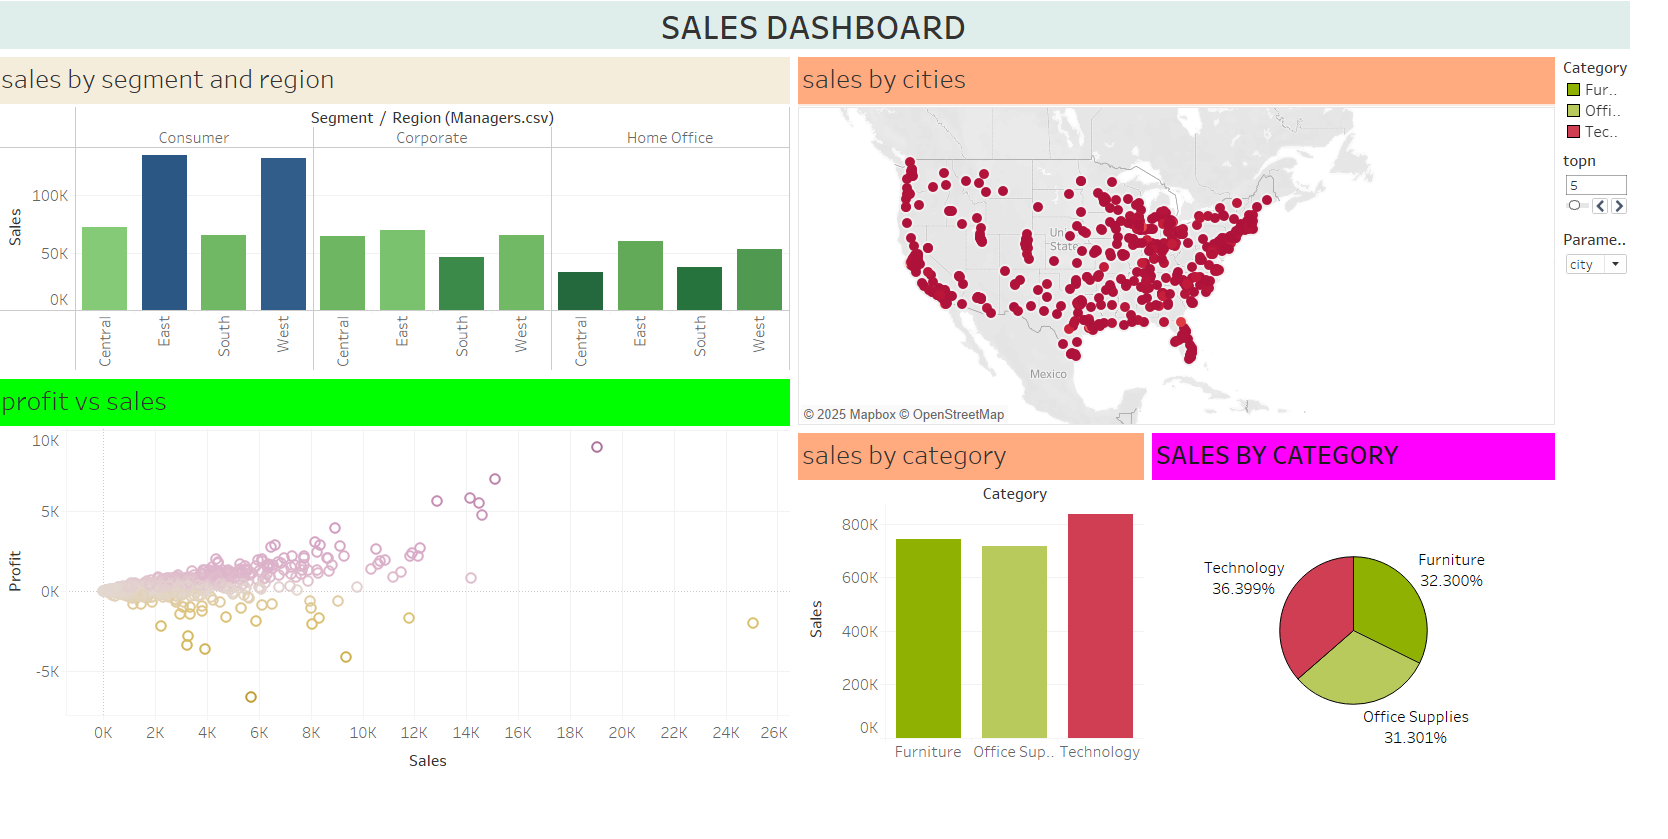

The page's visual inventory and layout, read from the dashboard file:
{"tool":"tableau","page":{"name":"Dashboard 1","canvas":[1657,801],"ordinal":0},"visuals":[{"type":"title","box":[8,8,1641,56]},{"type":"worksheet","title":"Sheet 1","mark":"Automatic","rows":["Sales"],"cols":["Segment","Region (Managers.csv)"],"box":[8,64,801,322.2]},{"type":"worksheet","title":"Sheet 3","mark":"Automatic","box":[809,64,765,376.1]},{"type":"legend","title":"Sheet 2","param":"[federated.0zs3n2703e50z90zrpjiu0lfyugy].[none:Category:nk]","box":[1574,64,75,93]},{"type":"parameter","param":"[Parameters].[Parameter 1]","box":[1574,157,75,79]},{"type":"parameter","param":"[Parameters].[Parameter 2]","box":[1574,236,75,56]},{"type":"worksheet","title":"Sheet 4","mark":"Automatic","rows":["Profit"],"cols":["Sales"],"box":[8,386.2,801,406.8]},{"type":"worksheet","title":"Sheet 5","mark":"Automatic","rows":["Sales"],"cols":["Category"],"box":[809,440.1,354,352.9]},{"type":"worksheet","title":"Sheet 2","mark":"Pie","box":[1163,440.1,411,352.9]}]}

Visuals, with their boxes on the page's 1657x801 design canvas (x1, y1, x2, y2). These are canvas units, not pixel positions in the 1668x839 screenshot, which may show the page scaled, cropped or inside an application window:
title: box(8, 8, 1649, 64)
"Sheet 1" worksheet: box(8, 64, 809, 386)
"Sheet 3" worksheet: box(809, 64, 1574, 440)
"Sheet 2" legend: box(1574, 64, 1649, 157)
parameter: box(1574, 157, 1649, 236)
parameter: box(1574, 236, 1649, 292)
"Sheet 4" worksheet: box(8, 386, 809, 793)
"Sheet 5" worksheet: box(809, 440, 1163, 793)
"Sheet 2" worksheet (Pie marks): box(1163, 440, 1574, 793)
